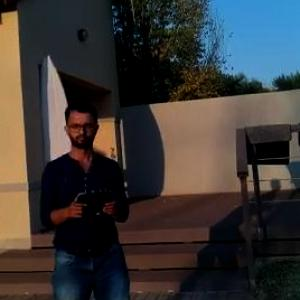follow: (36, 96, 139, 299)
